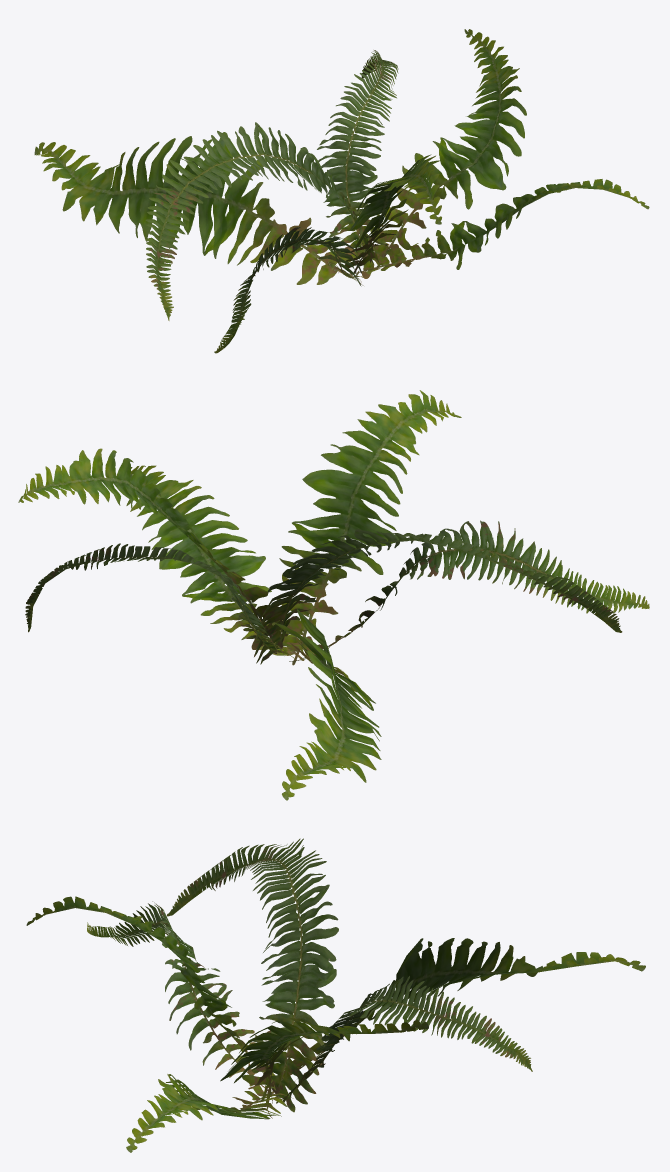
The model's file is fern_02_d.gltf.
3 renders of one model, top to bottom at view 1: azimuth 30°, elevation 25°; view 2: azimuth 150°, elevation 25°; view 3: azimuth 270°, elevation 25°, orthographic. The views are drawn at different scales.
Parts seen in each view (by area): view 1: fern_02_d__x; view 2: fern_02_d__x; view 3: fern_02_d__x.
Boxes of the visible parts, x1,y1,x2,y2 form: fern_02_d__x: (34, 29, 649, 353); fern_02_d__x: (18, 390, 649, 800); fern_02_d__x: (26, 838, 645, 1152).
Bounding box in the file's own units: 0.5728 × 0.2131 × 0.5933.
Materials: 1 (1 with a texture image).
